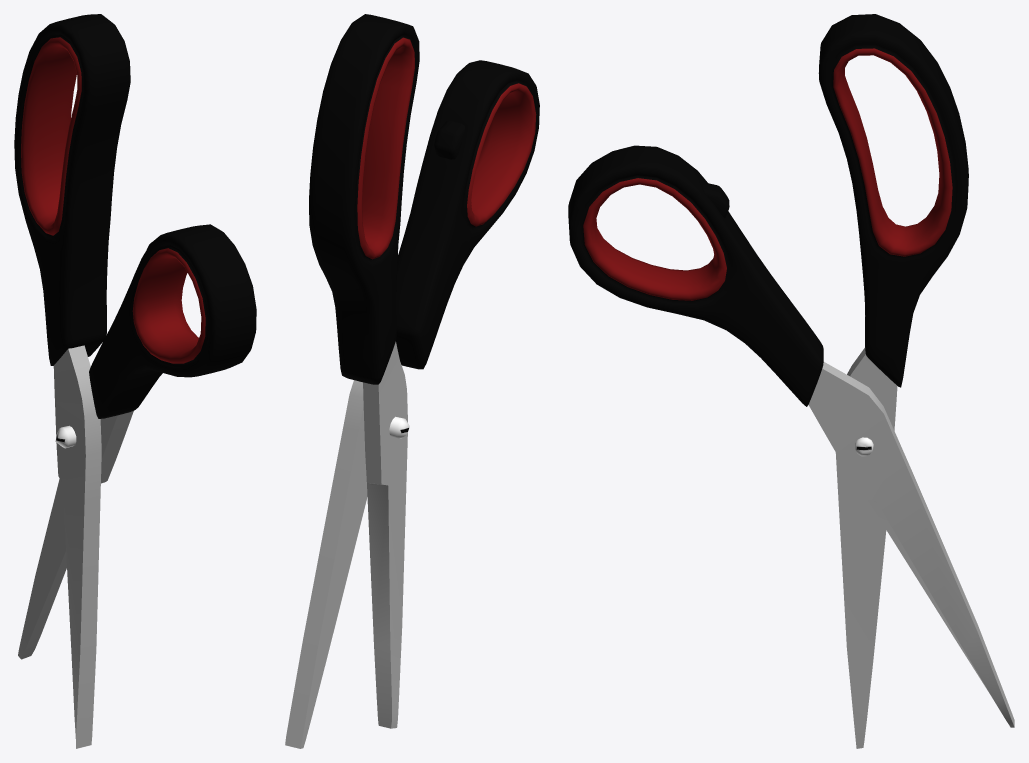
File: sissors.obj
The picture shows the model from 3 angles, left to right: view 1: azimuth 30°, elevation 25°; view 2: azimuth 150°, elevation 25°; view 3: azimuth 270°, elevation 25°; orthographic projection. The views are drawn at different scales.
Visible parts, largest first — view 1: Schere_10312_Shears_V2_max2011_iteration-2.003; view 2: Schere_10312_Shears_V2_max2011_iteration-2.003; view 3: Schere_10312_Shears_V2_max2011_iteration-2.003.
Boxes of the visible parts, x1=… form: Schere_10312_Shears_V2_max2011_iteration-2.003: x1=14, y1=14, x2=256, y2=748; Schere_10312_Shears_V2_max2011_iteration-2.003: x1=285, y1=14, x2=539, y2=748; Schere_10312_Shears_V2_max2011_iteration-2.003: x1=568, y1=14, x2=1014, y2=748.
Size of the model in its own units: 0.0229 by 0.2766 by 0.1542.
Materials: 4 (1 with a texture image).
